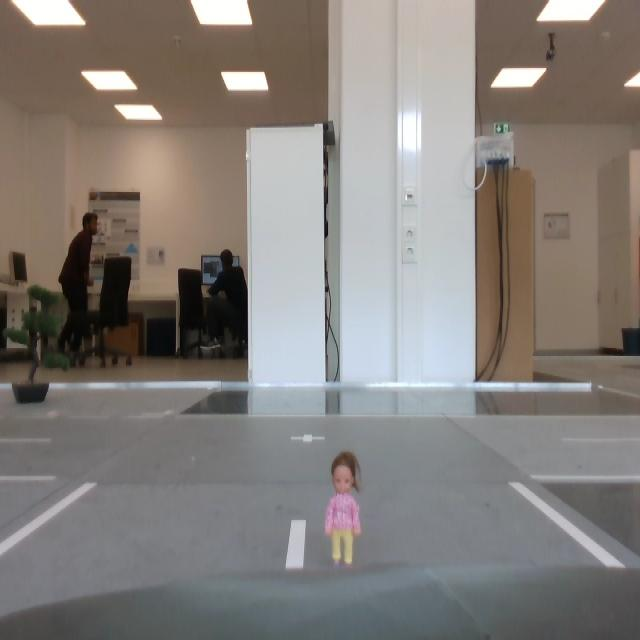person: (324, 448, 366, 568)
potted plant: (5, 284, 70, 404)
